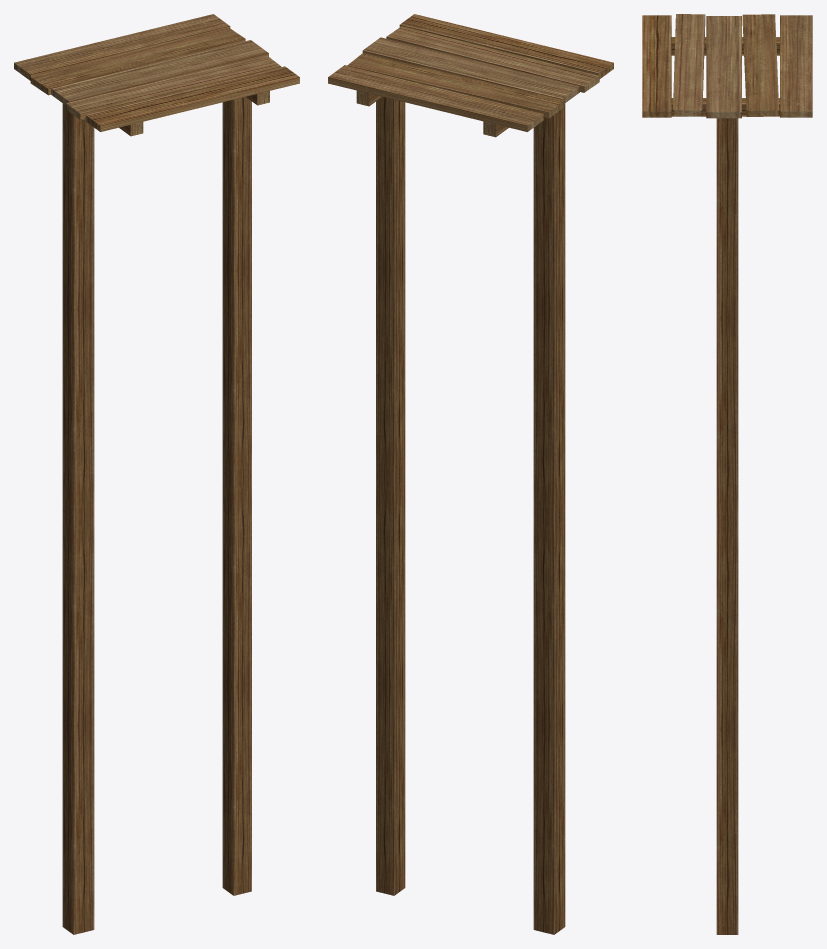
Rendered from BridgeWoodRoad02.FBX.
3 views of the same model, side by side, from view 1: azimuth 30°, elevation 25°; view 2: azimuth 150°, elevation 25°; view 3: azimuth 270°, elevation 25° (orthographic).
Visible parts, largest first — view 1: BridgeWoodRoad02; view 2: BridgeWoodRoad02; view 3: BridgeWoodRoad02.
Boxes of the visible parts, <box> form: BridgeWoodRoad02: <box>14,14,299,934</box>; BridgeWoodRoad02: <box>328,14,613,934</box>; BridgeWoodRoad02: <box>642,14,812,934</box>.
Bounding box in the file's own units: 376 × 1479 × 276.
